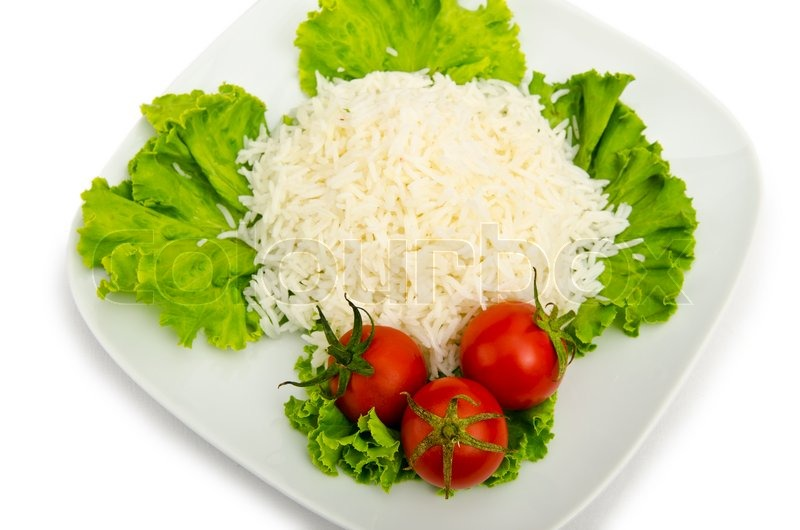chopped lettuce: (83, 88, 268, 344), (532, 74, 691, 344), (300, 1, 520, 92), (281, 376, 395, 488)
plain rice: (258, 85, 557, 328)
